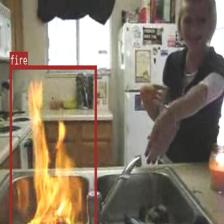fire: (9, 65, 96, 224)
